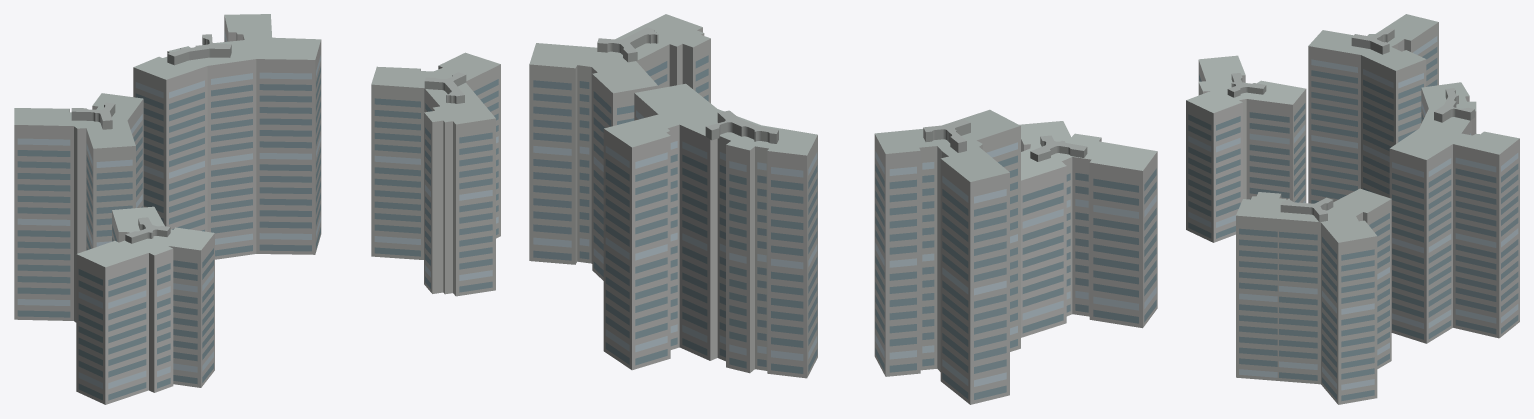
The model's file is apt-a13876112.glb.
The picture shows the model from 3 angles, left to right: view 1: azimuth 30°, elevation 25°; view 2: azimuth 150°, elevation 25°; view 3: azimuth 270°, elevation 25°; orthographic projection. The views are drawn at different scales.
Parts seen in each view (by area): view 1: apt-a13876112; view 2: apt-a13876112; view 3: apt-a13876112.
Boxes of the visible parts, x1=… form: apt-a13876112: x1=14, y1=14, x2=500, y2=404; apt-a13876112: x1=529, y1=14, x2=1157, y2=404; apt-a13876112: x1=1186, y1=14, x2=1519, y2=404.
Bounding box in the file's own units: 133 × 54.18 × 85.35.
